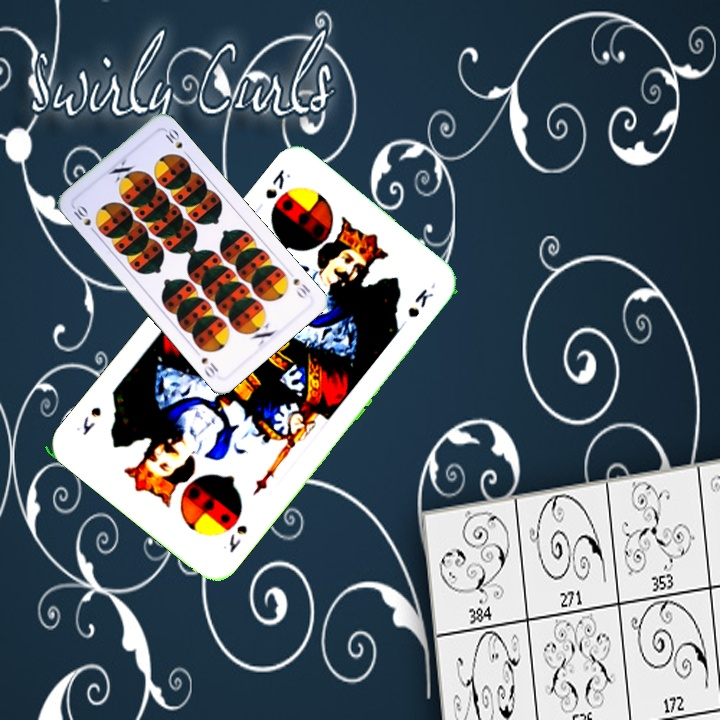S10: (69, 201, 99, 237), (289, 274, 313, 301)
SK: (261, 165, 293, 202), (224, 521, 250, 556)
